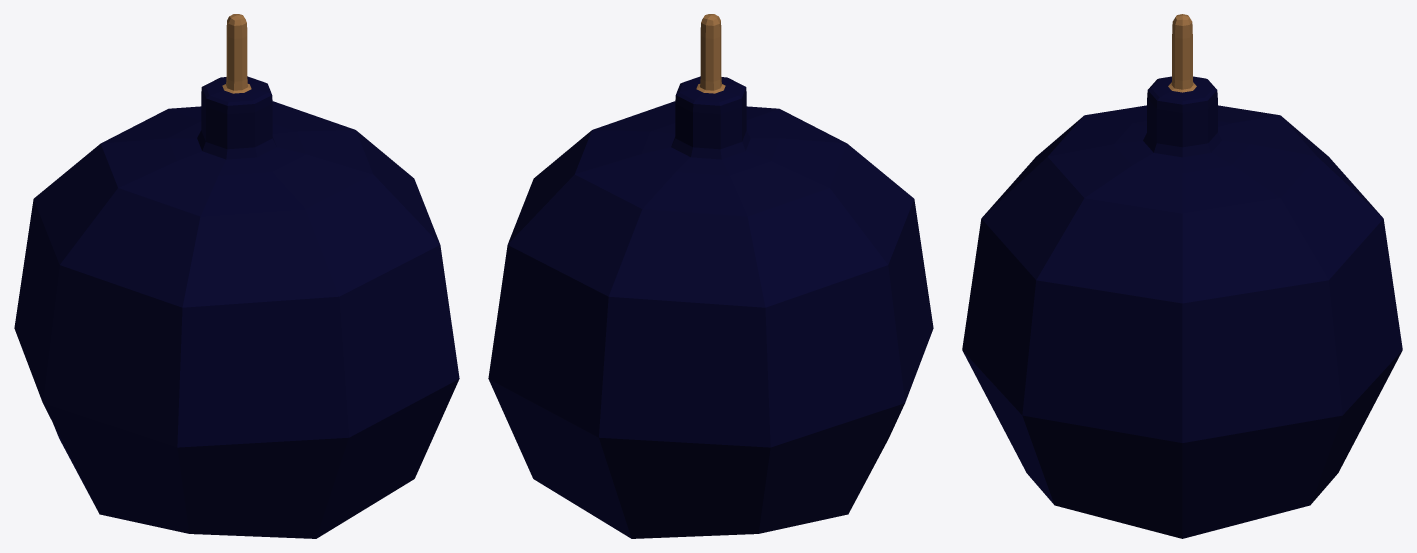
File: bomb.fbx
The picture shows the model from 3 angles, left to right: view 1: azimuth 30°, elevation 25°; view 2: azimuth 150°, elevation 25°; view 3: azimuth 270°, elevation 25°; orthographic projection.
Visible parts, largest first — view 1: Cube; view 2: Cube; view 3: Cube.
Boxes of the visible parts, x1,y1,x2,y2 form: Cube: (14,14,459,538); Cube: (488,14,933,538); Cube: (962,14,1402,538).
Size of the model in its own units: 51.71 by 65.14 by 51.71.
Materials: 1 (1 with a texture image).
